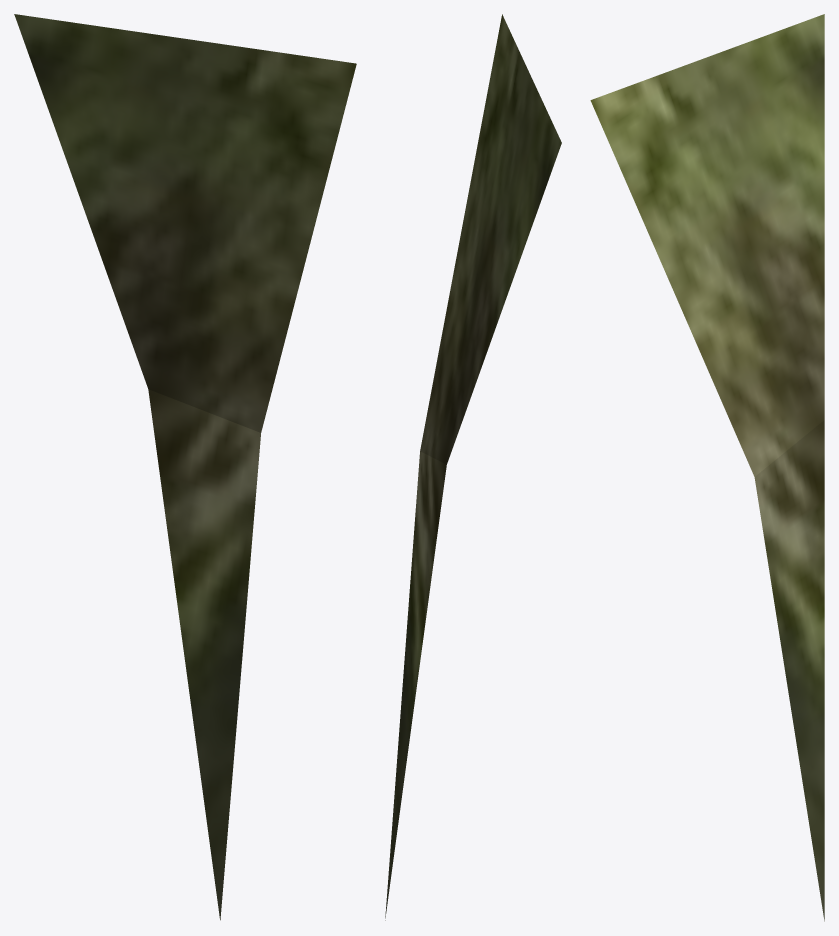
3 renders of one model, left to right at view 1: azimuth 30°, elevation 25°; view 2: azimuth 150°, elevation 25°; view 3: azimuth 270°, elevation 25°, orthographic. The views are drawn at different scales.
Bounding box in the file's own units: 0.3522 × 1.56 × 0.4039.
Materials: 1 (1 with a texture image).
